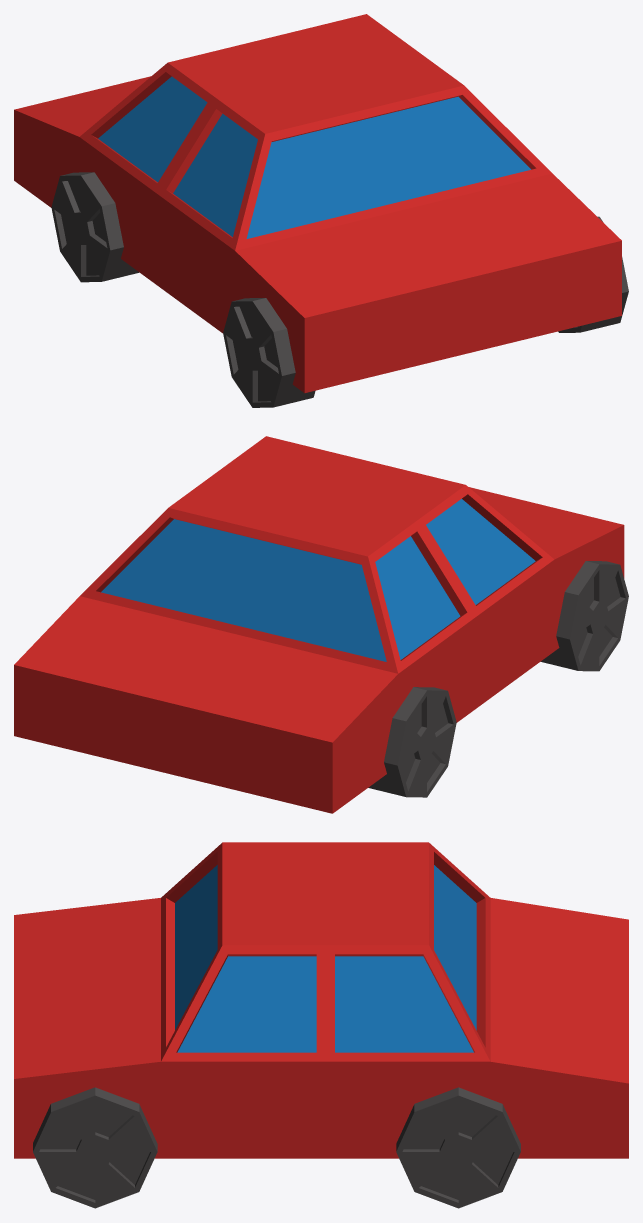
File: red.fbx
3 renders of one model, top to bottom at view 1: azimuth 30°, elevation 25°; view 2: azimuth 150°, elevation 25°; view 3: azimuth 270°, elevation 25°, orthographic. The views are drawn at different scales.
Parts seen in each view (by area): view 1: kirmizi; view 2: kirmizi; view 3: kirmizi.
Part boxes in pixels (x1,y1,x2,y2): kirmizi: [14, 14, 628, 407]; kirmizi: [14, 436, 628, 813]; kirmizi: [14, 842, 628, 1208].
Bounding box in the file's own units: 187 × 109 × 271.
Materials: 1 (1 with a texture image).
